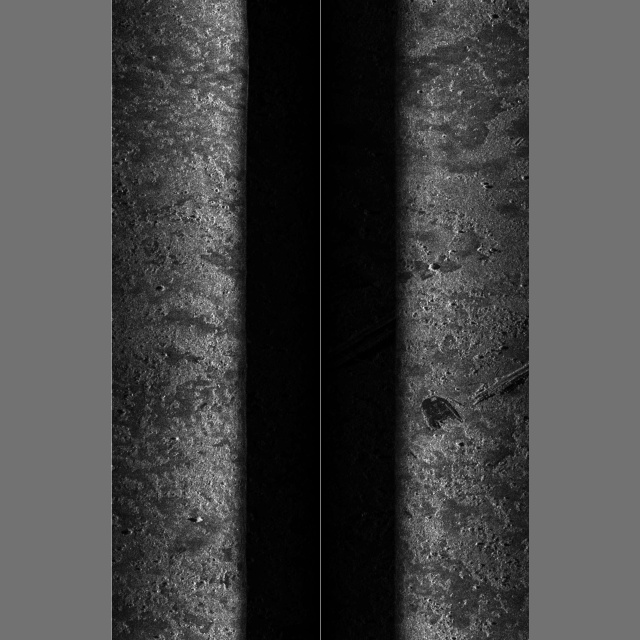Shipwreck: (328, 136, 529, 429)
